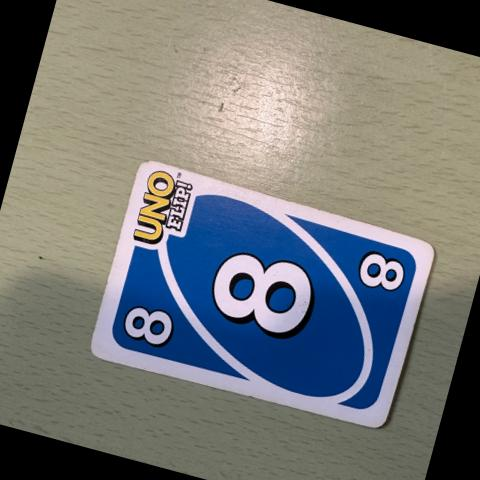lblue-8: (99, 280, 201, 372)
